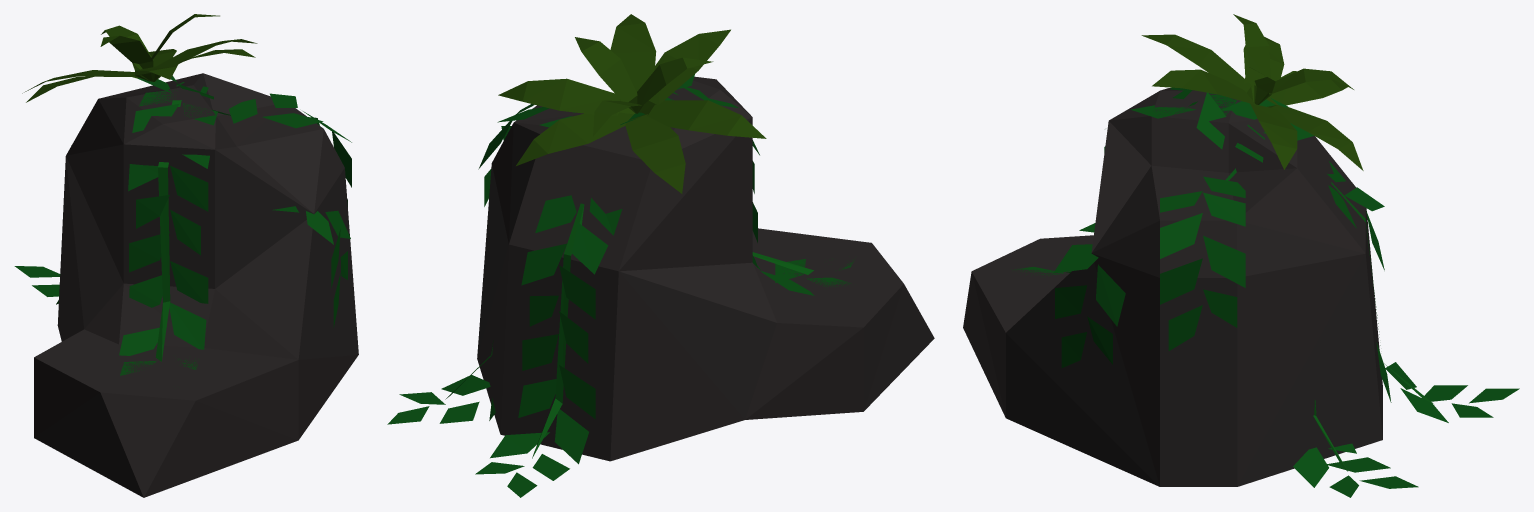
The model's file is obj_rock_5_0.obj.
3 renders of one model, left to right at view 1: azimuth 30°, elevation 25°; view 2: azimuth 150°, elevation 25°; view 3: azimuth 270°, elevation 25°, orthographic. The views are drawn at different scales.
Bounding box in the file's own units: 1.56 × 1.45 × 2.03.
